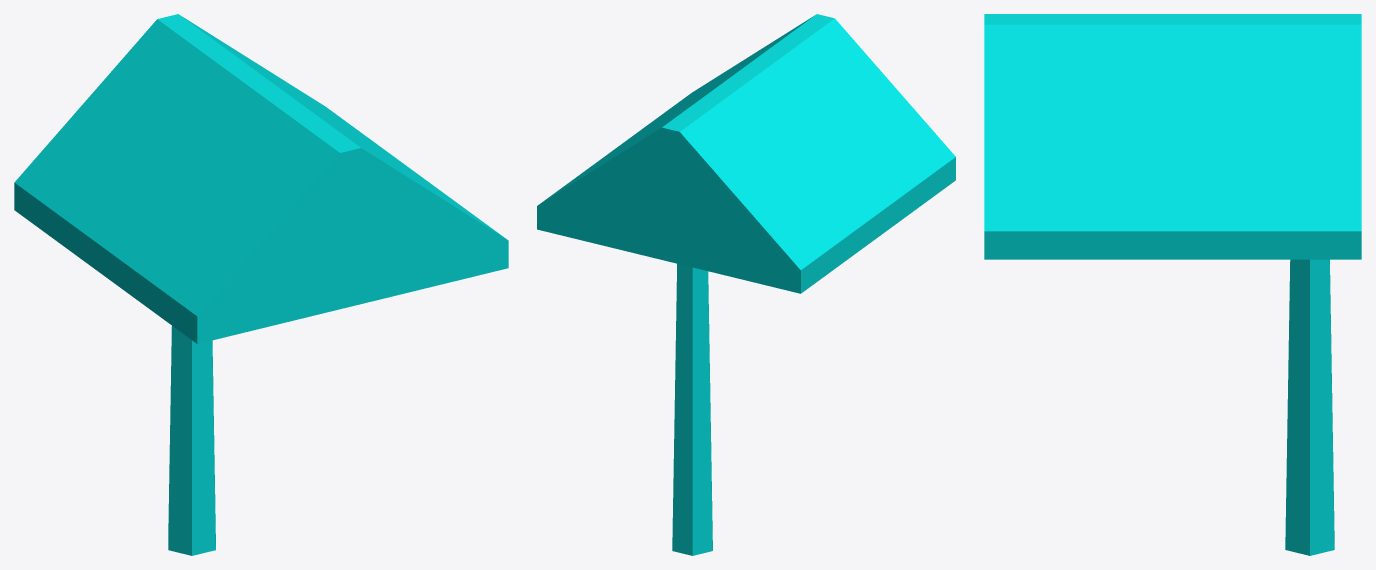
The model's file is SM_Prop_Well_Roof_02_Collision.fbx.
The picture shows the model from 3 angles, left to right: view 1: azimuth 30°, elevation 25°; view 2: azimuth 150°, elevation 25°; view 3: azimuth 270°, elevation 25°; orthographic projection. The views are drawn at different scales.
Parts seen in each view (by area): view 1: SM_Prop_Well_Roof_02_Collision; view 2: SM_Prop_Well_Roof_02_Collision; view 3: SM_Prop_Well_Roof_02_Collision.
Boxes of the visible parts, left/top/right/bottom form: SM_Prop_Well_Roof_02_Collision: left=14, top=14, right=508, bottom=555; SM_Prop_Well_Roof_02_Collision: left=537, top=14, right=955, bottom=555; SM_Prop_Well_Roof_02_Collision: left=984, top=14, right=1361, bottom=555.
Bounding box in the file's own units: 208 × 326 × 212.
